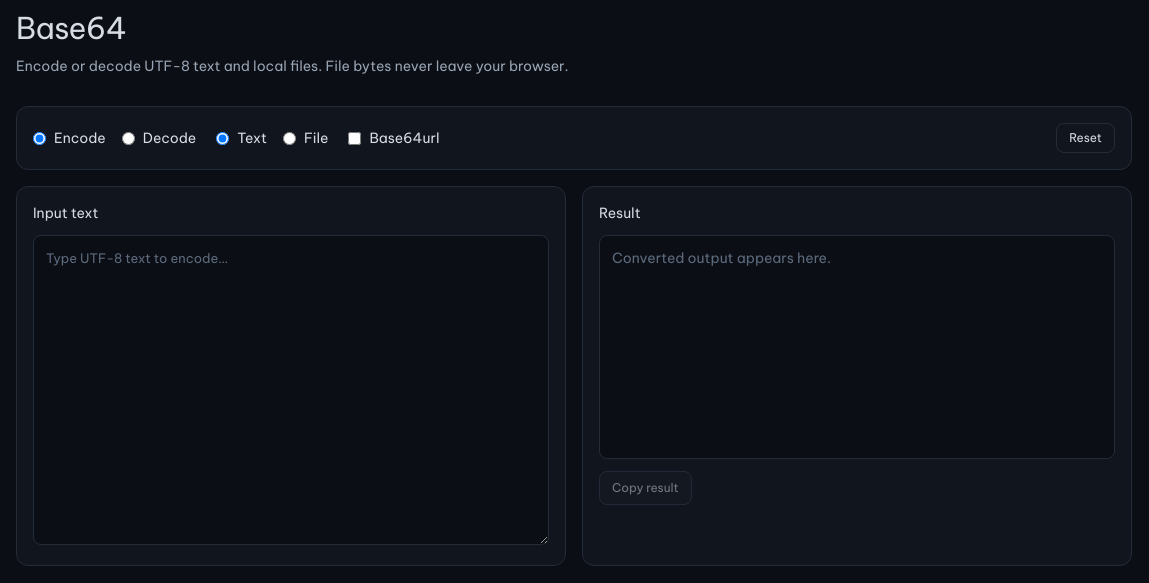
Scenario: Base64 tool › encodes and decodes UTF-8 text with Base64url support
Type "Xin chào 👋" into the text box named "Input text" at x=291, y=390, box [33,235,549,545]
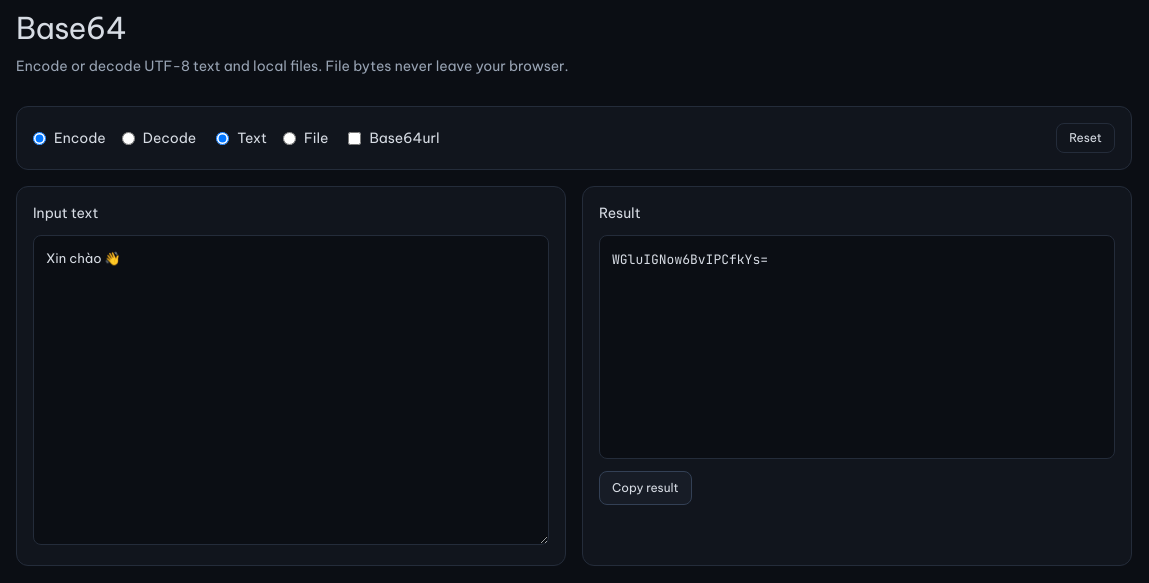
Check: the element named "Result" reads "WGluIGNow6BvIPCfkYs=", box [612,251,768,268]
Click the checkbox labelled "Base64url" at x=355, y=138, box [348,132,361,144]
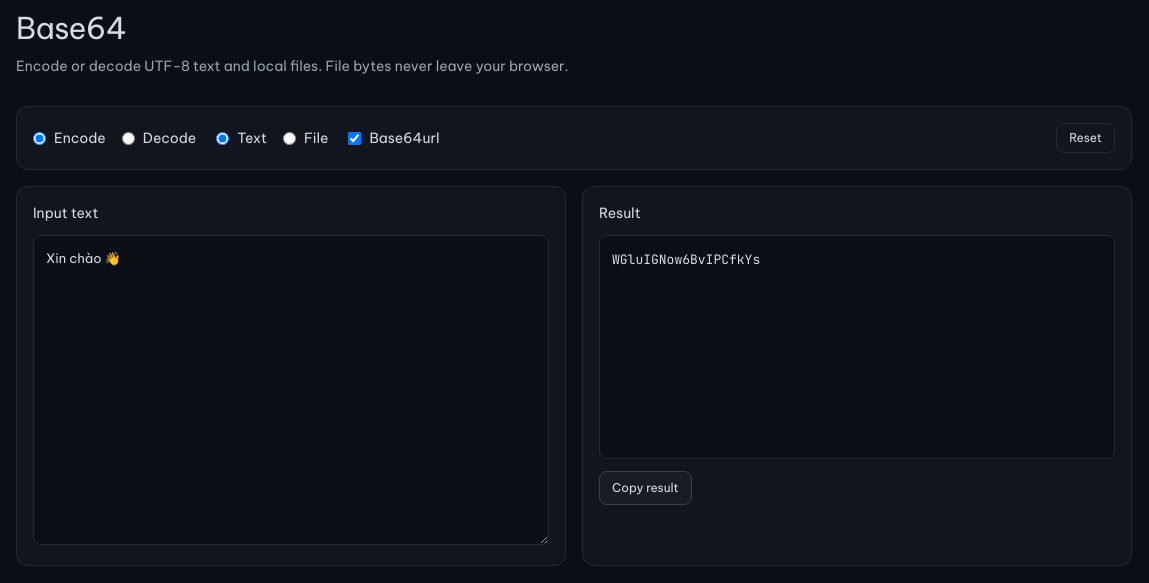
Check: the element named "Result" no longer shows "=", box [599,235,1115,459]
Click the radio button labelled "Decode" at x=128, y=138, box [122,132,135,144]
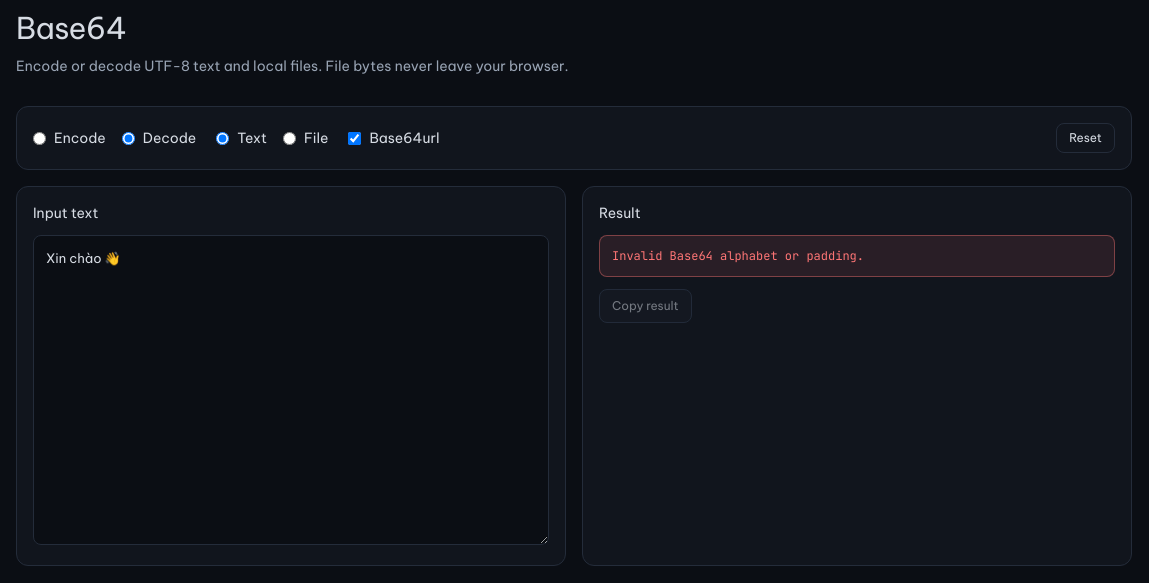
Replace the text in the text box named "Input text" with "SGVsbG8" at x=291, y=390, box [33,235,549,545]
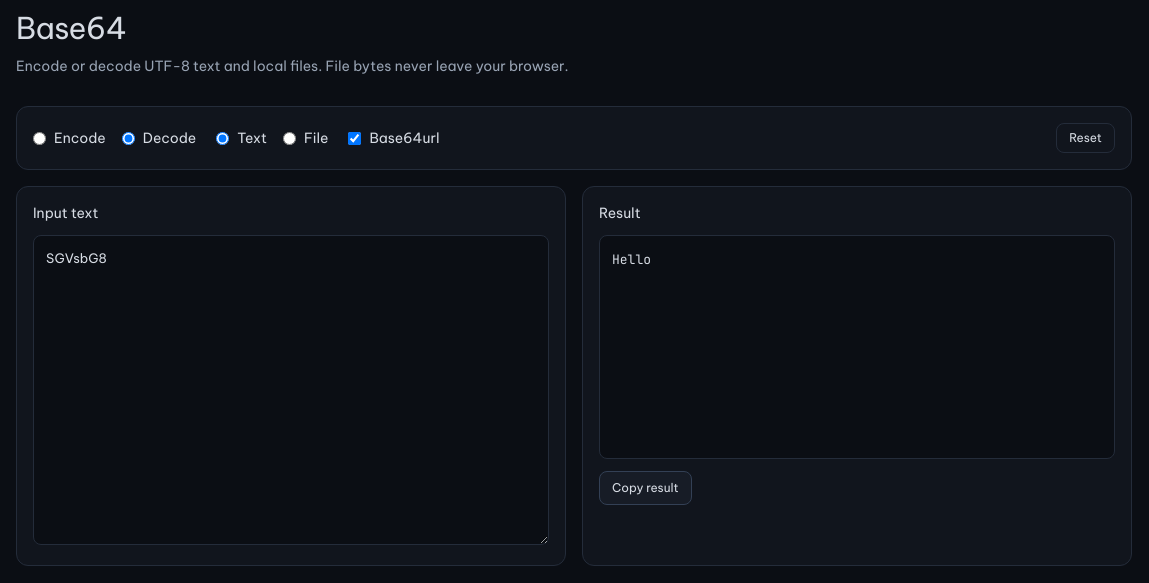
Check: the element named "Result" reads "Hello", box [612,251,651,268]
